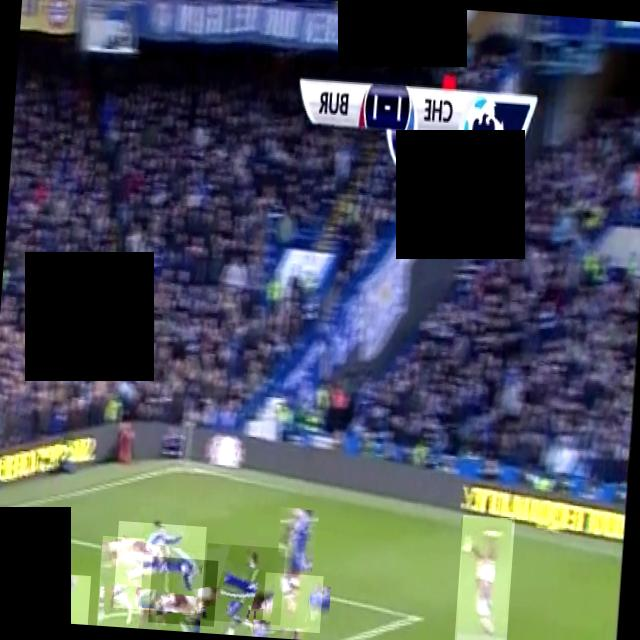soccer-player: (112, 520, 206, 614), (453, 514, 514, 640), (202, 543, 285, 625), (270, 506, 318, 629), (148, 556, 218, 626), (96, 535, 144, 628), (261, 572, 323, 633), (36, 572, 90, 624), (252, 606, 297, 639)
